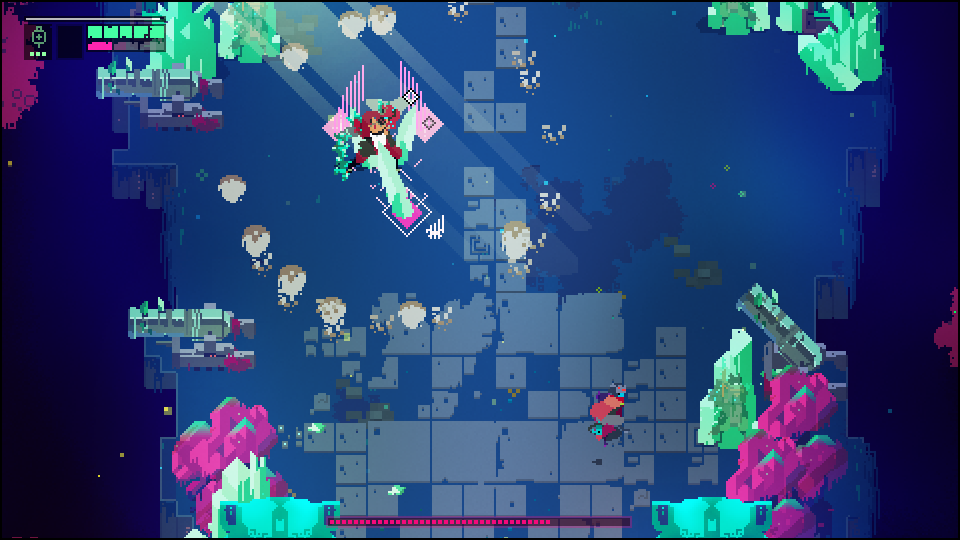hanged_crys: (331, 63, 365, 136), (381, 164, 419, 217), (401, 68, 434, 125)
hanged_man: (330, 101, 412, 185)
player: (590, 382, 629, 445)
